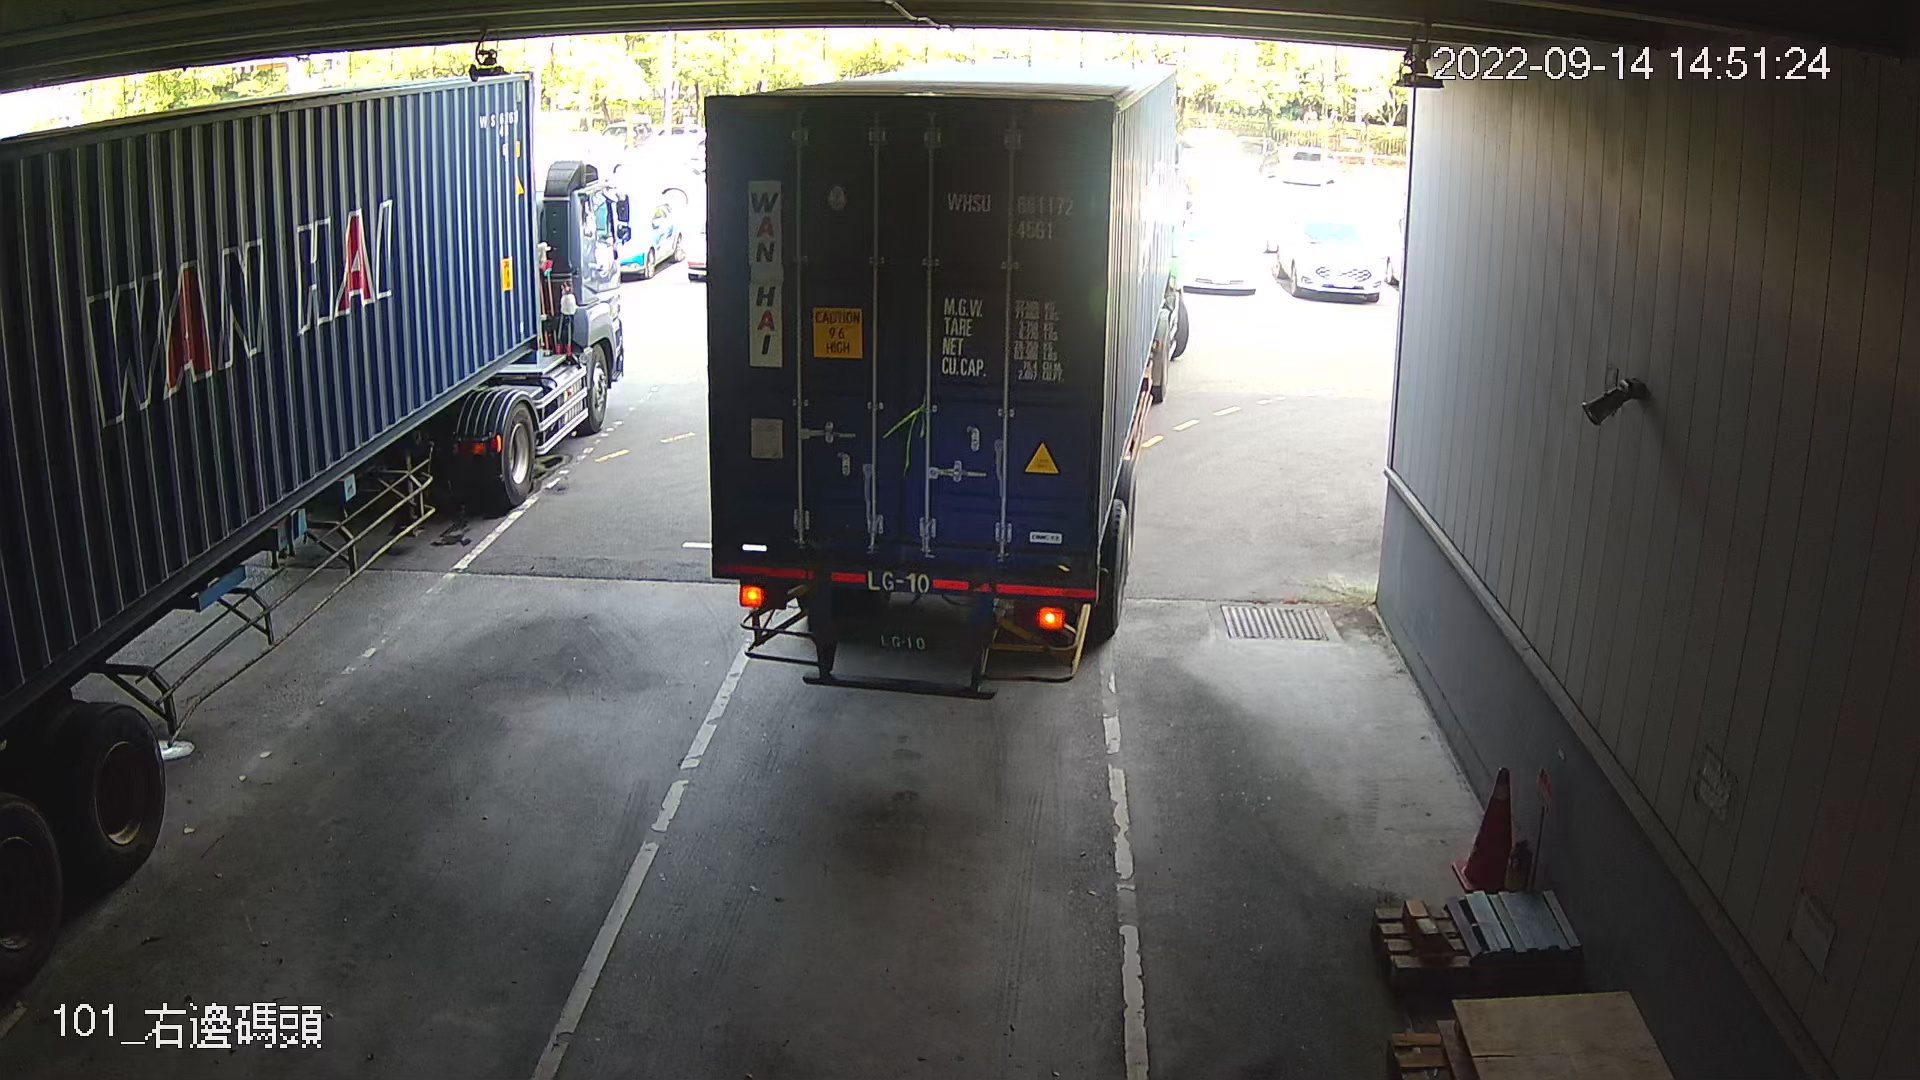container: (935, 183, 1106, 248)
